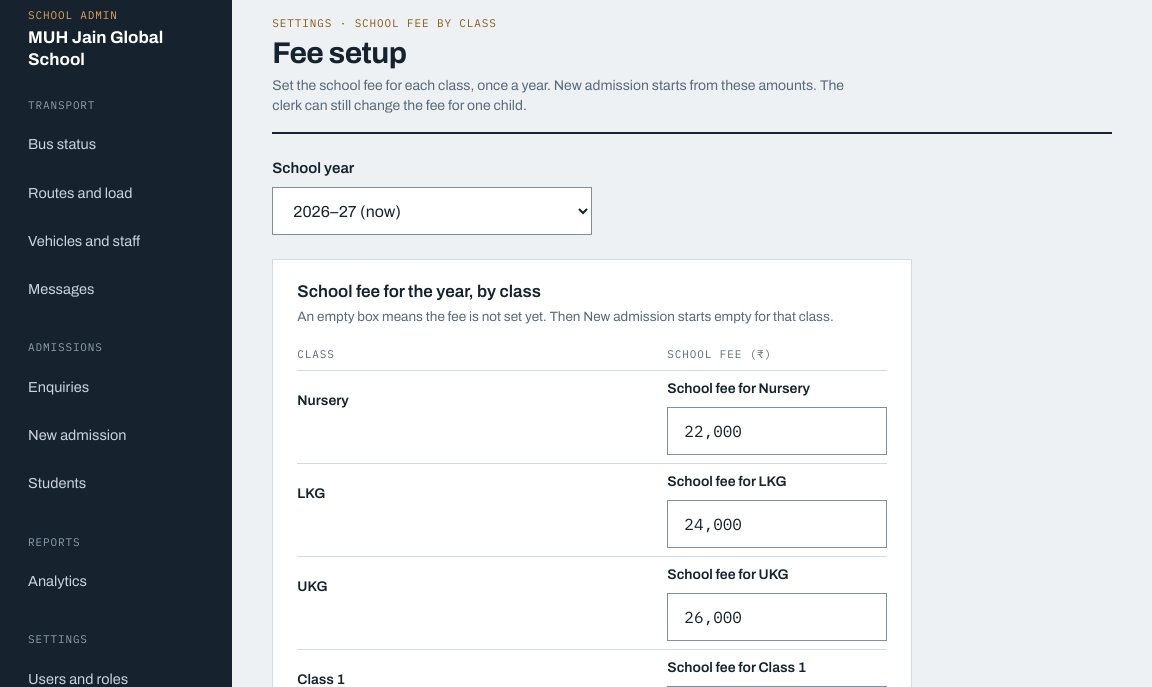
Test case: Fee setup › an empty box means "not set yet", and the next school year starts empty
The width and height of the screenshot is (1152, 687).
Select "2027–28" in the dropdown labelled "School year": (432, 211) [272,187,592,235]
(page scrolled)
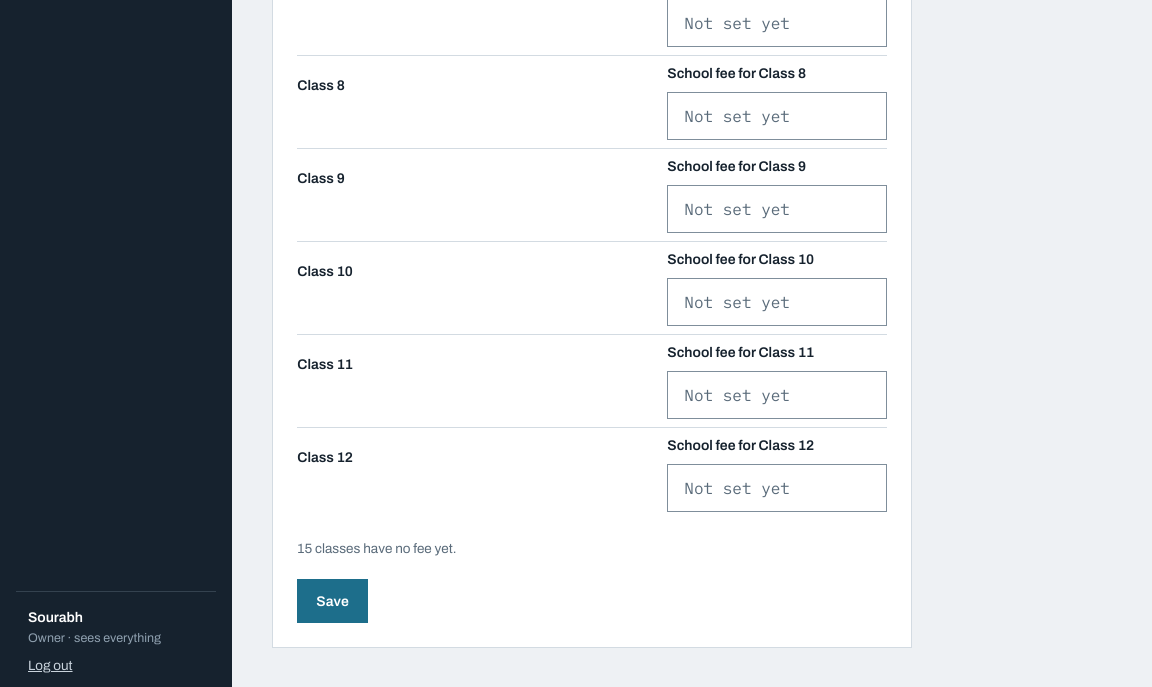
Now the text "15 classes have no fee yet." is shown, box [297,542,456,556]
